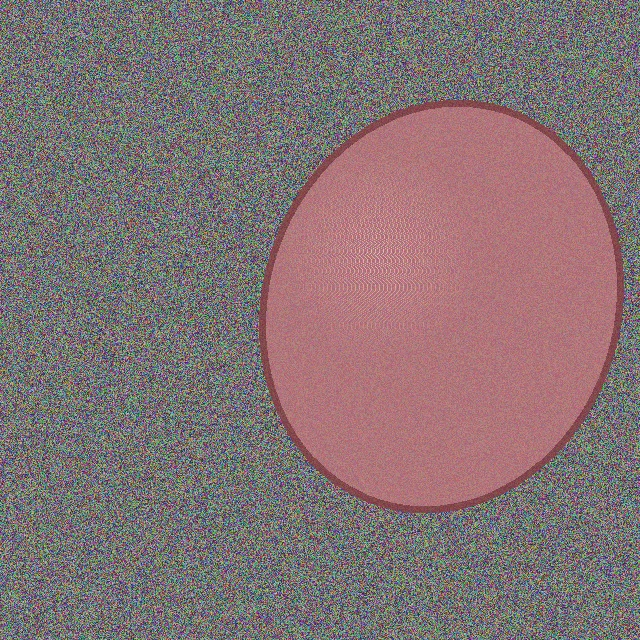lens: (263, 103, 619, 509)
